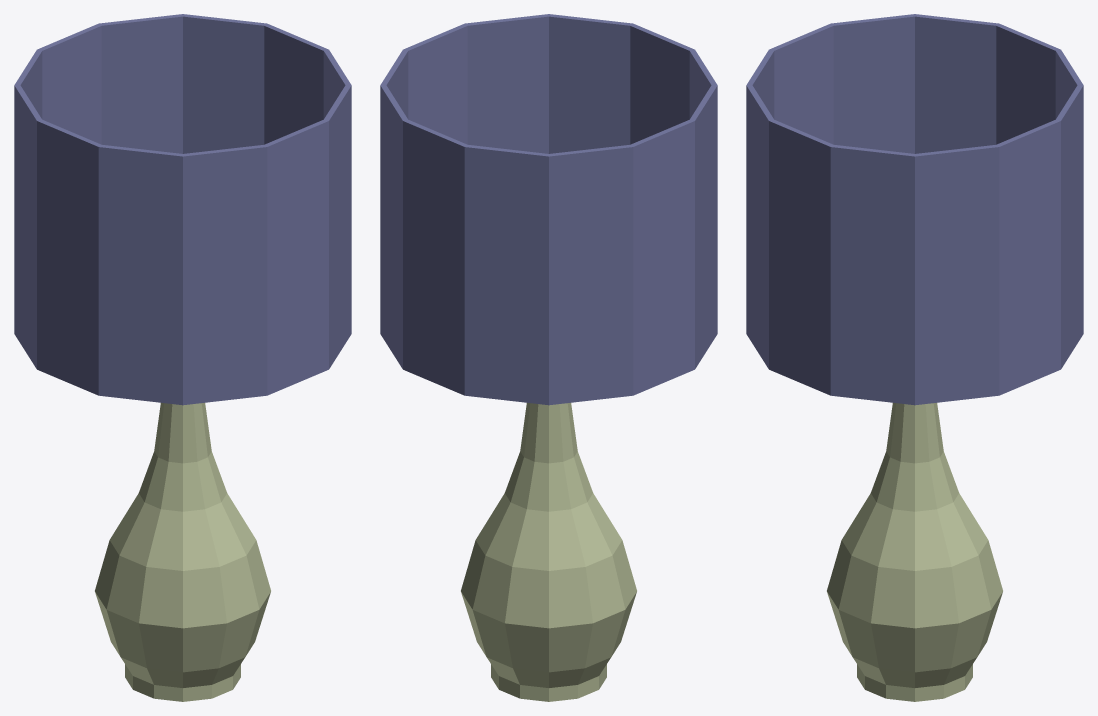
Rendered from Lamp_12.fbx.
3 views of the same model, side by side, from view 1: azimuth 30°, elevation 25°; view 2: azimuth 150°, elevation 25°; view 3: azimuth 270°, elevation 25° (orthographic).
Visible parts, largest first — view 1: Lamp_12; view 2: Lamp_12; view 3: Lamp_12.
Boxes of the visible parts, bbox=[...] form: Lamp_12: bbox=[14, 14, 351, 701]; Lamp_12: bbox=[380, 14, 717, 701]; Lamp_12: bbox=[746, 14, 1083, 701].
Size of the model in its own units: 34.59 by 34.59 by 67.02.
